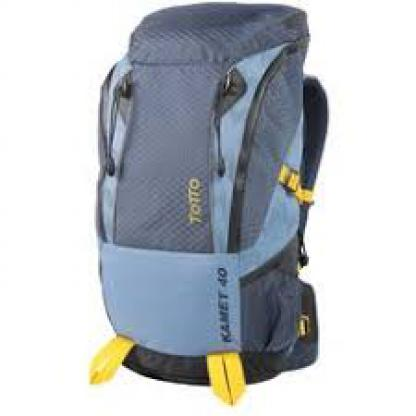morral: (89, 2, 340, 401)
